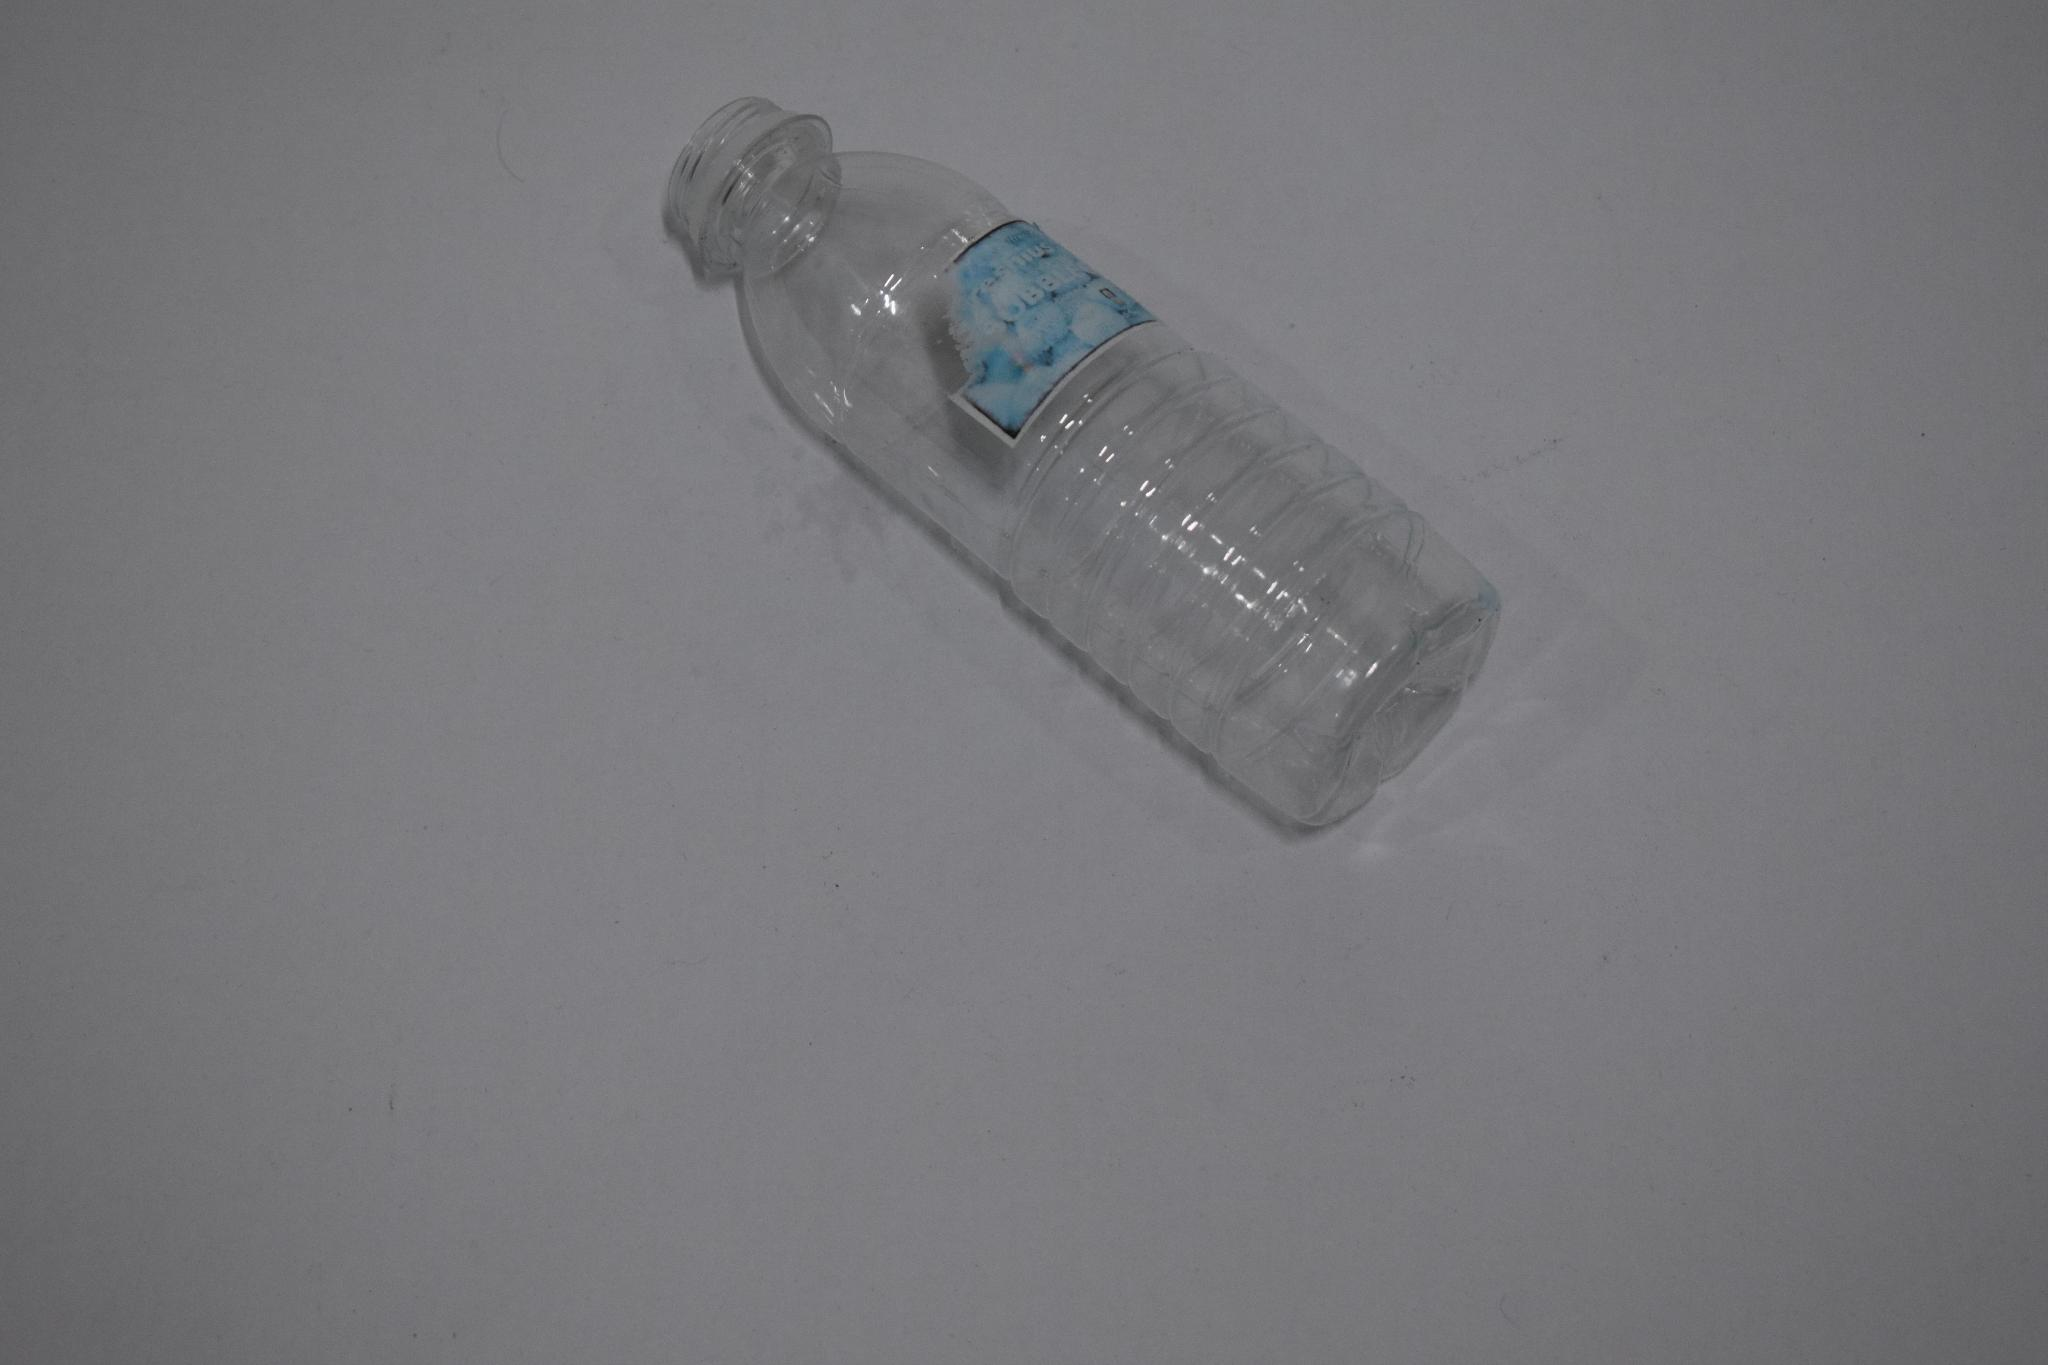bottle: (664, 88, 1568, 850)
